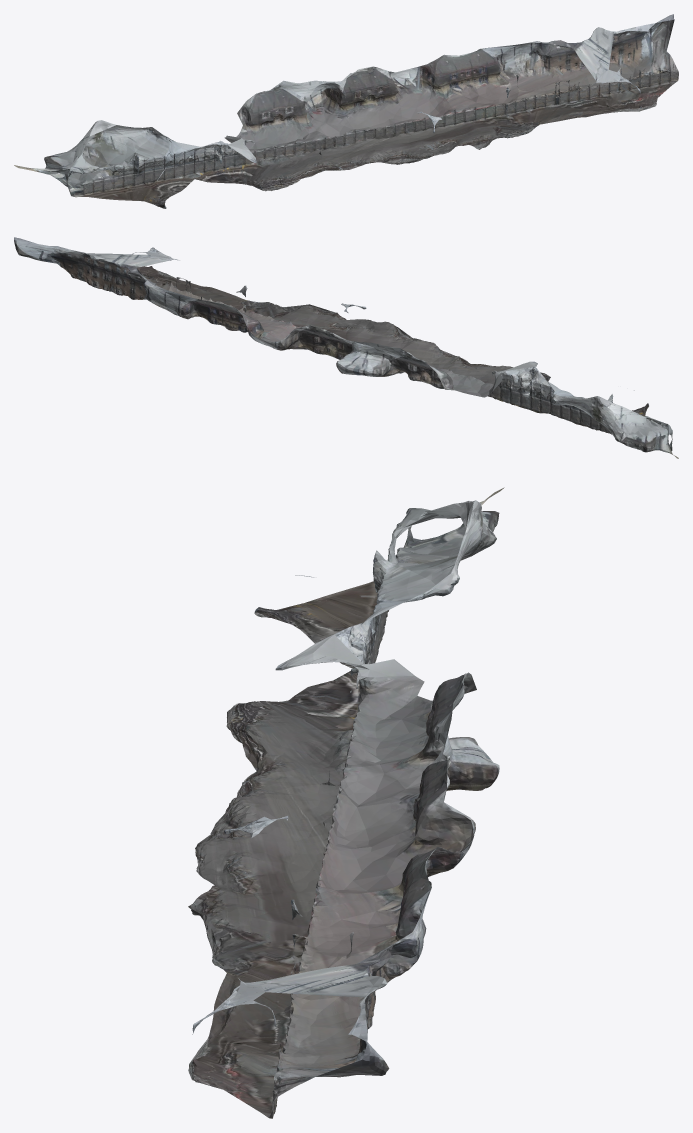
3 views of the same model, one above another, from view 1: azimuth 30°, elevation 25°; view 2: azimuth 150°, elevation 25°; view 3: azimuth 270°, elevation 25° (orthographic). The views are drawn at different scales.
Parts seen in each view (by area): view 1: meshes[0]; view 2: meshes[0]; view 3: meshes[0].
Part boxes in pixels (box(x1,y1,x2,y2)): meshes[0]: box(14, 14, 678, 208); meshes[0]: box(14, 237, 678, 458); meshes[0]: box(188, 487, 504, 1118).
Bounding box in the file's own units: 8.14 × 0.6889 × 1.78.
Materials: 1 (1 with a texture image).
